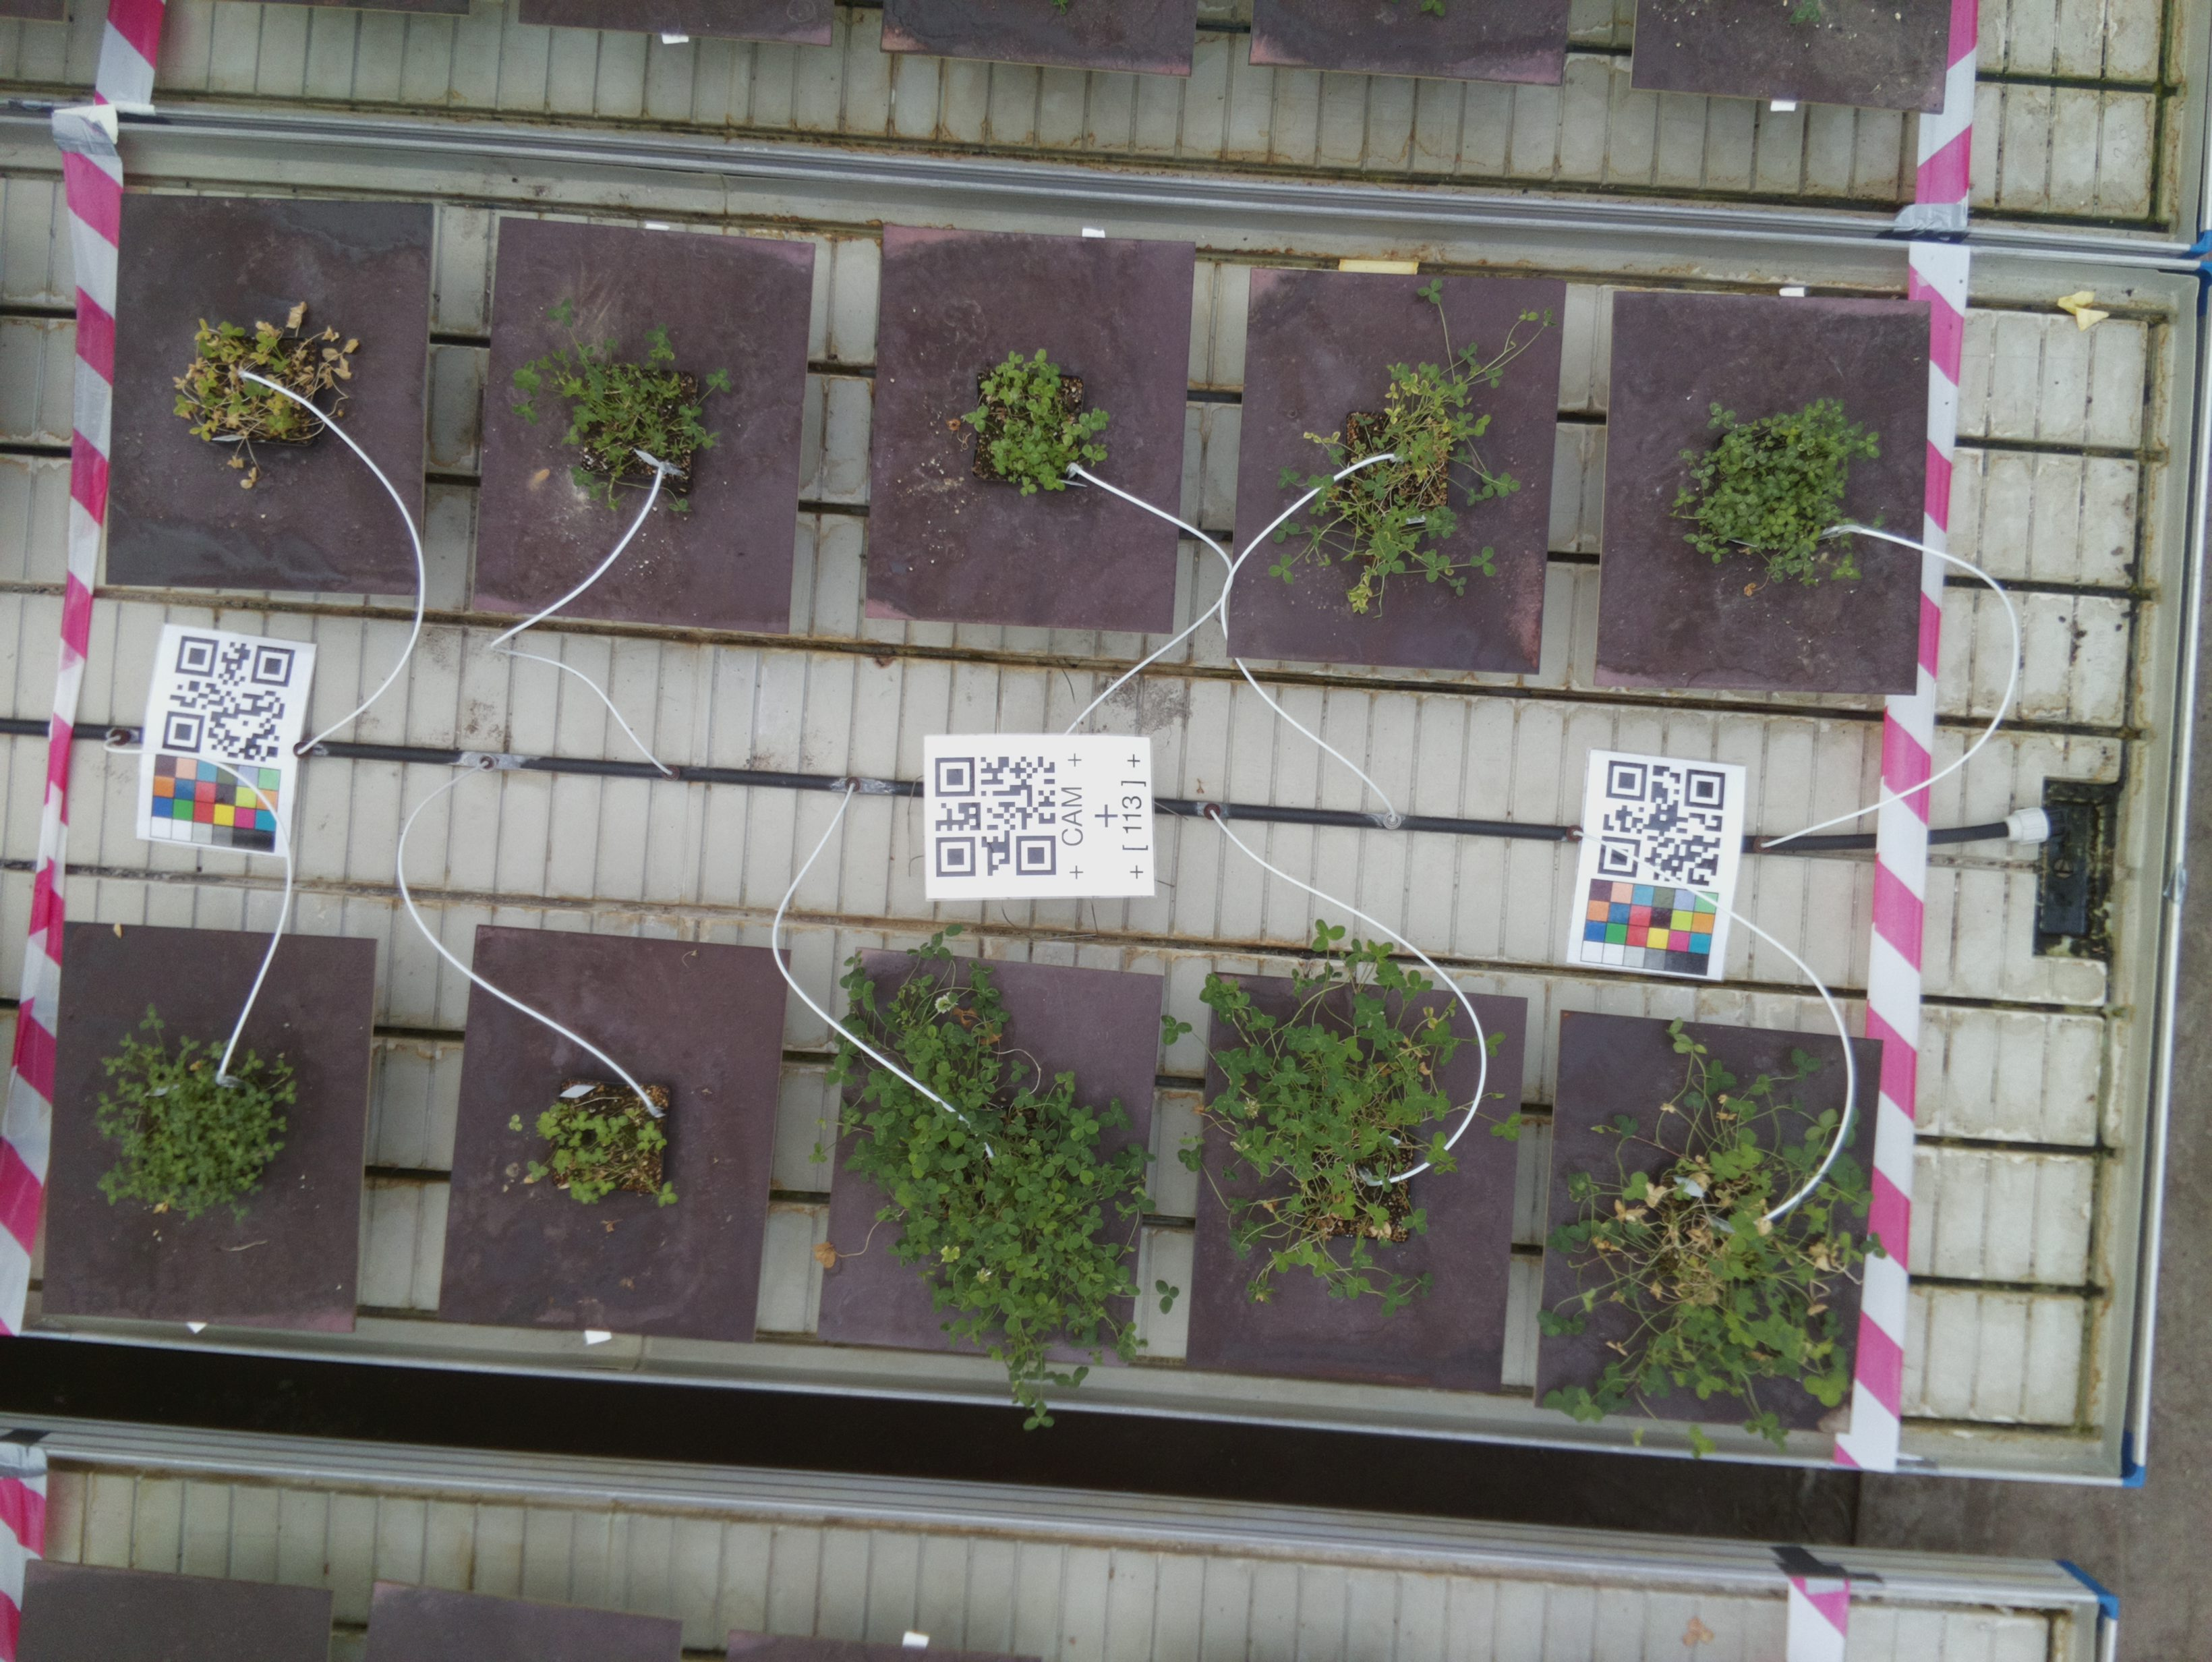POT: (478, 216, 801, 639), (833, 943, 1154, 1365), (59, 920, 372, 1339), (1252, 267, 1563, 681), (1606, 292, 1922, 697), (464, 931, 772, 1346), (1556, 1011, 1858, 1433), (871, 223, 1180, 635), (115, 192, 429, 597), (1206, 974, 1508, 1388)
QRCODE: (924, 731, 1159, 899)
QRCOLOR: (141, 623, 319, 854), (1573, 751, 1737, 981)
